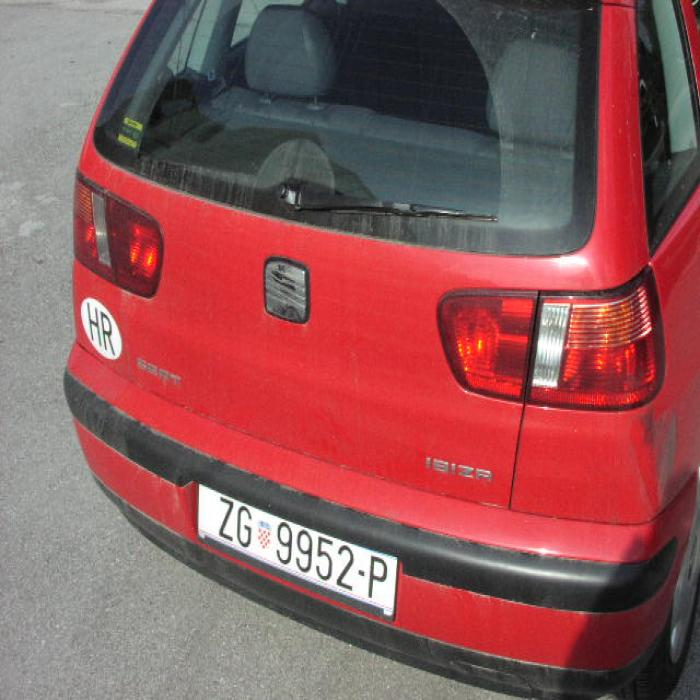number_plate: (197, 483, 391, 611)
